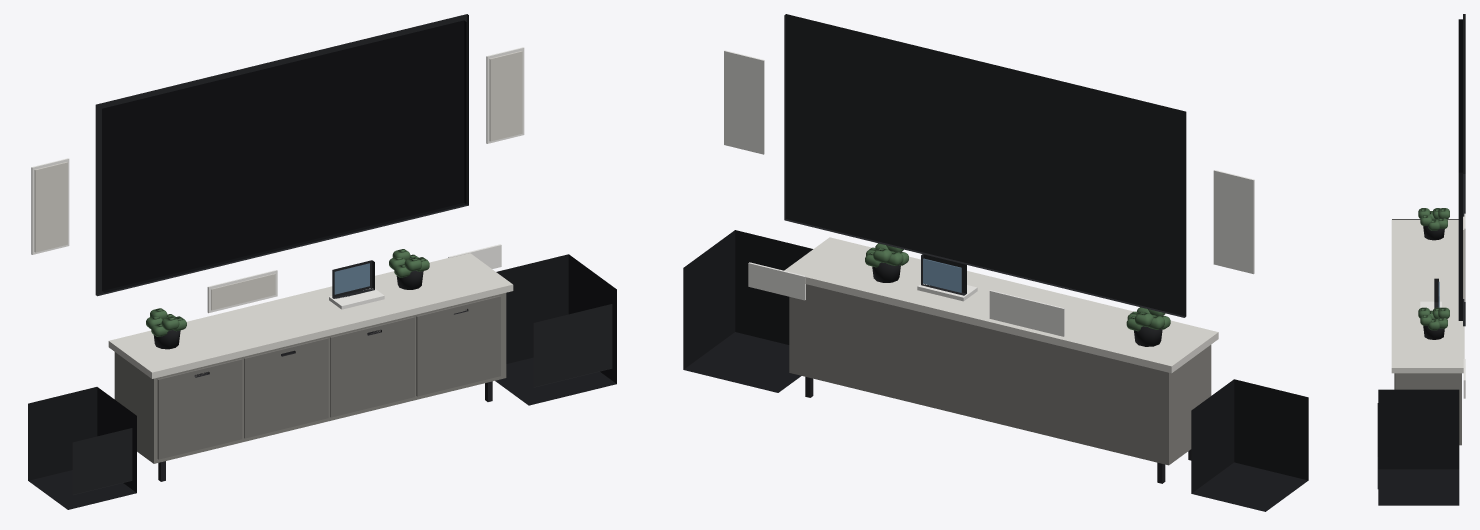
File: Movie_Screen_Wall.glb
3 renders of one model, left to right at view 1: azimuth 30°, elevation 25°; view 2: azimuth 150°, elevation 25°; view 3: azimuth 270°, elevation 25°, orthographic. The views are drawn at different scales.
Visible parts, largest first — view 1: root; view 2: root; view 3: root.
Part boxes in pixels (x1,y1,x2,y2): root: (28,14,616,509); root: (683,14,1308,511); root: (1377,14,1465,505).
Bounding box in the file's own units: 3.75 × 2.18 × 0.7405.
